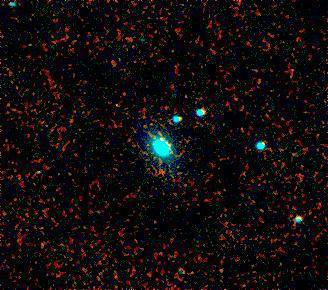star: (26, 155, 56, 185)
